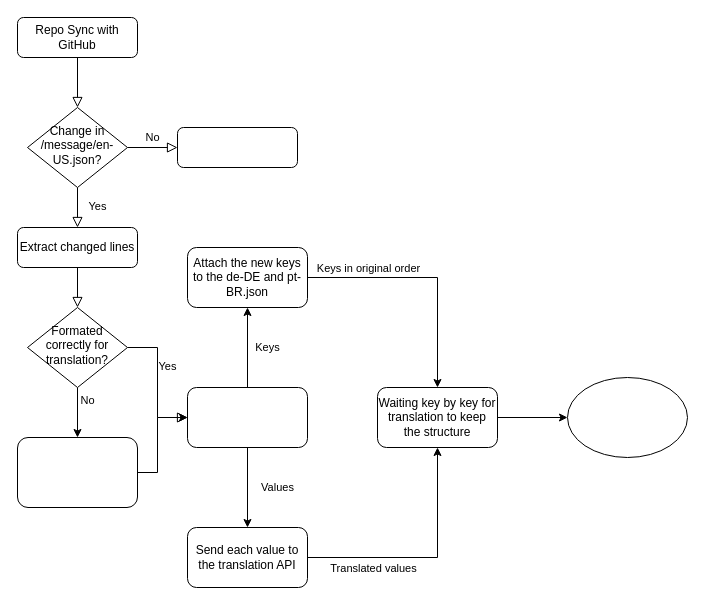
Image size: 705x605. Some labels were removed from this diagram. The centre of each missing label's shape, as x and y in pixels:
Continue with semversioning, skip indexing: (x=237, y=147)
Done: (x=627, y=417)
Restructure the output to have a .json format equal to previously: (x=77, y=472)
Separate keys from values: (x=247, y=417)
